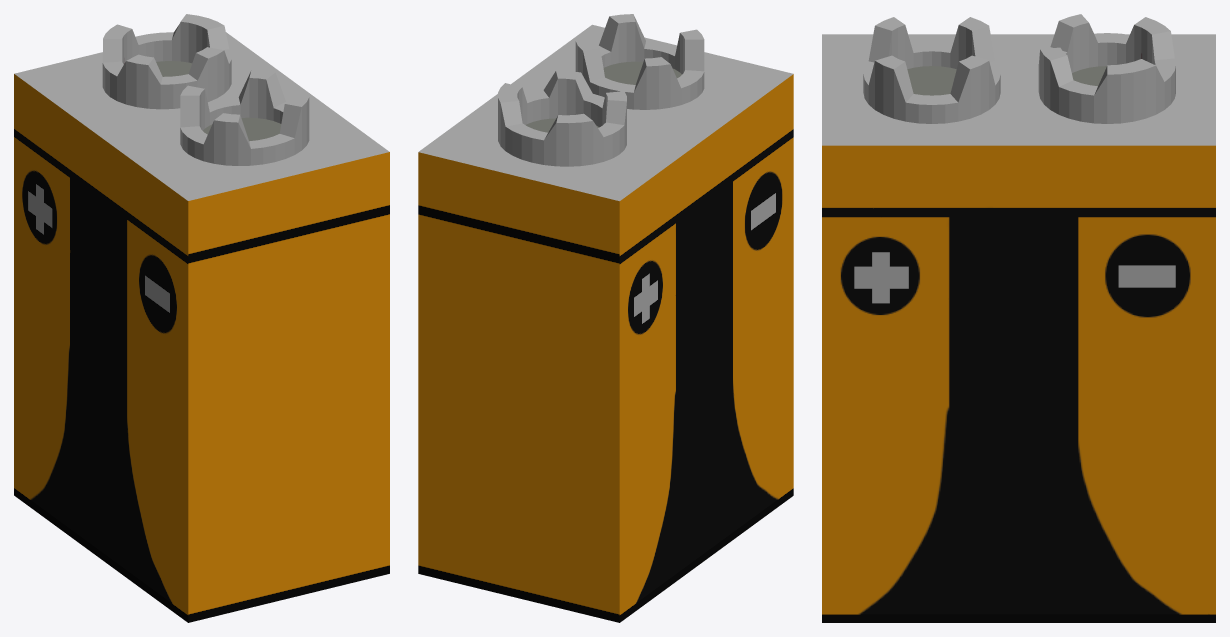
Rendered from bateria.fbx.
3 renders of one model, left to right at view 1: azimuth 30°, elevation 25°; view 2: azimuth 150°, elevation 25°; view 3: azimuth 270°, elevation 25°, orthographic. The views are drawn at different scales.
Parts seen in each view (by area): view 1: Cilindro; view 2: Cilindro; view 3: Cilindro.
Part boxes in pixels (bbox=[...]): Cilindro: bbox=[14, 14, 389, 622]; Cilindro: bbox=[418, 14, 793, 622]; Cilindro: bbox=[822, 14, 1215, 622].
Size of the model in its own units: 134 by 295 by 200.
